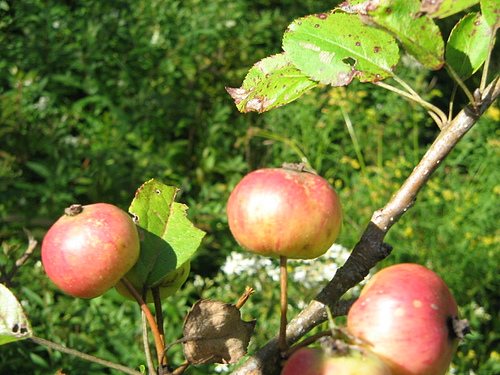apple: (346, 262, 465, 373), (221, 158, 348, 259), (36, 202, 143, 301)
